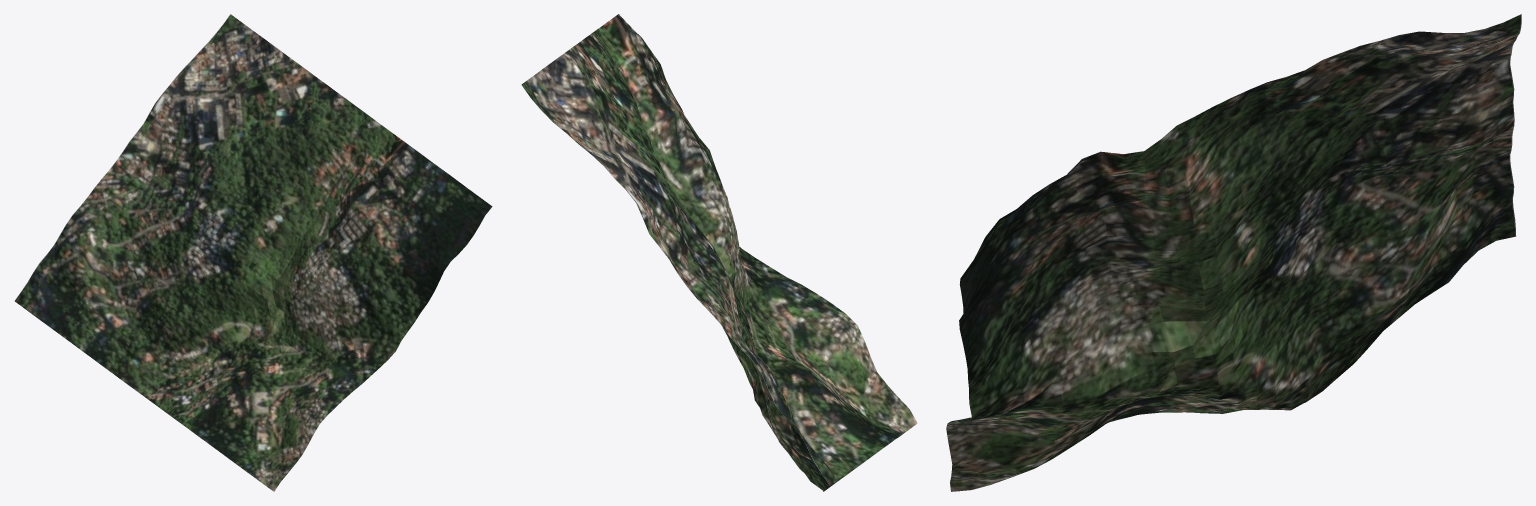
3 renders of one model, left to right at view 1: azimuth 30°, elevation 25°; view 2: azimuth 150°, elevation 25°; view 3: azimuth 270°, elevation 25°, orthographic. The views are drawn at different scales.
Bounding box in the file's own units: 1158 × 1142 × 1028.
Materials: 1 (1 with a texture image).
